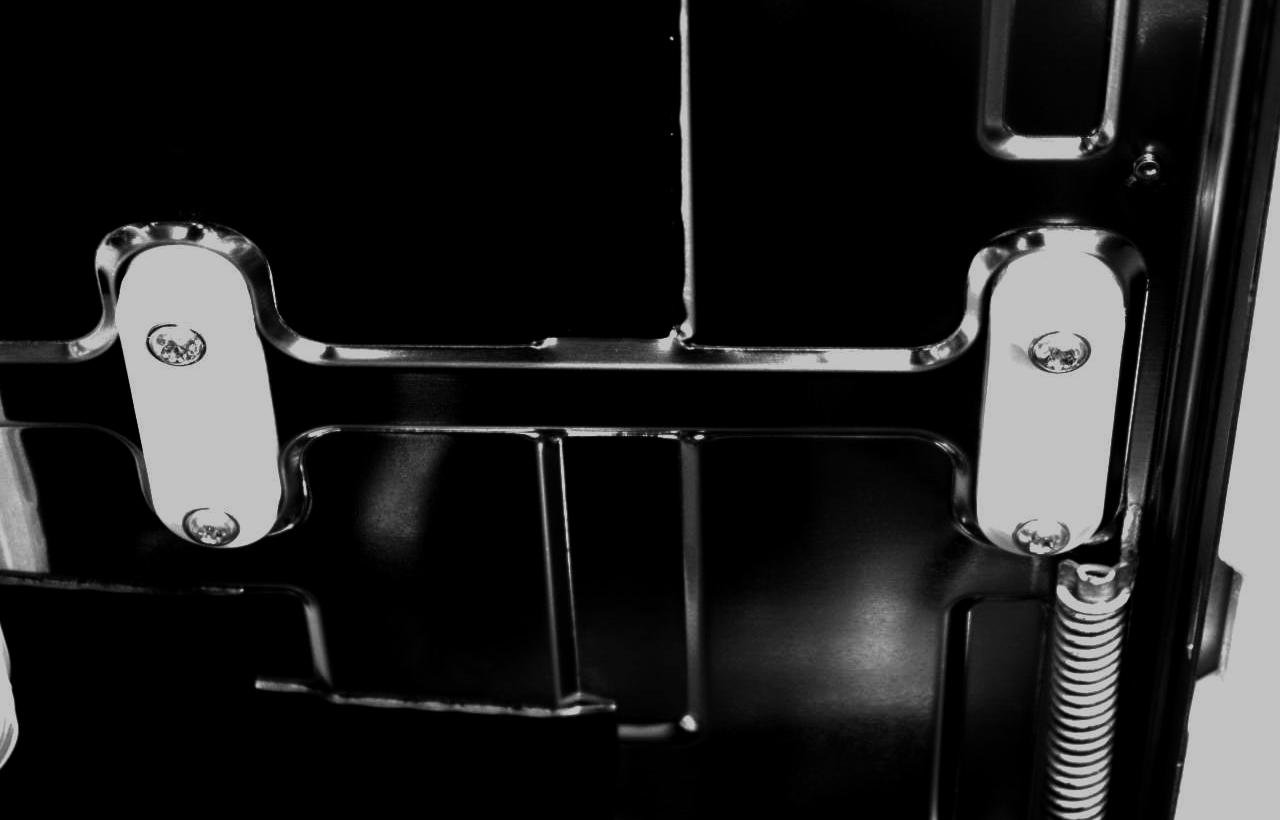vida-ok: (136, 314, 222, 392), (1014, 311, 1102, 383), (182, 504, 262, 568), (1003, 508, 1079, 567)
